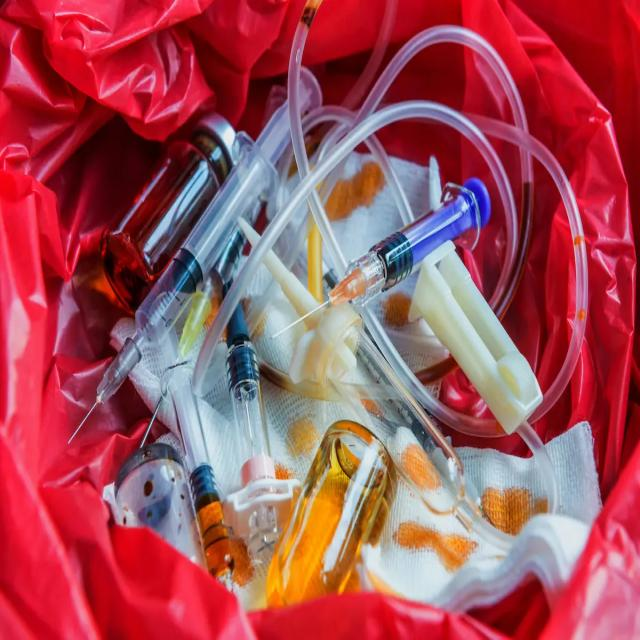Medical Waste: (81, 10, 614, 596)
